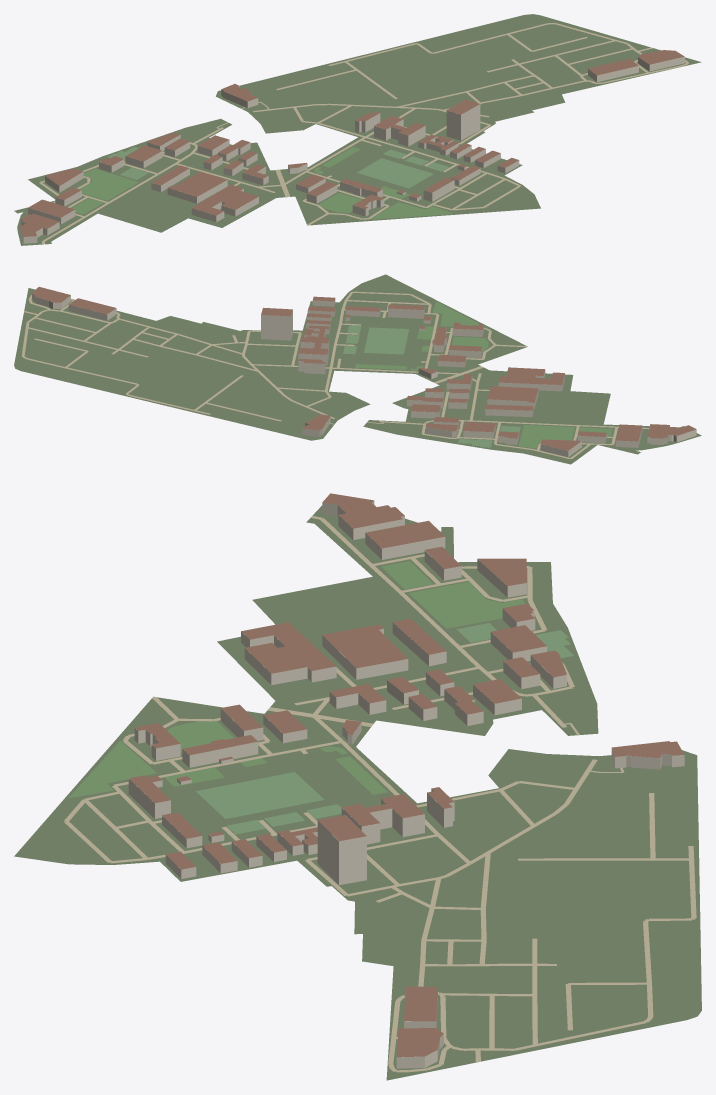
3 views of the same model, one above another, from view 1: azimuth 30°, elevation 25°; view 2: azimuth 150°, elevation 25°; view 3: azimuth 270°, elevation 25° (orthographic). The views are drawn at different scales.
Parts seen in each view (by area): view 1: campus-ground, environment (×3), buildings, roofs; view 2: campus-ground, environment (×3), roofs, buildings; view 3: campus-ground, environment (×3), roofs, buildings.
Boxes of the visible parts, x1,y1,x2,y2 form: campus-ground: (14,14,701,245); environment (×3): (39,23,688,244); buildings: (19,56,684,243); roofs: (19,50,684,236); campus-ground: (14,274,701,464); environment (×3): (21,291,649,459); roofs: (32,287,696,450); buildings: (32,293,696,457); campus-ground: (14,505,701,1080); environment (×3): (64,515,696,1072); roofs: (129,493,684,1057); buildings: (128,501,684,1068).
Size of the model in its own units: 1307 by 46.45 by 656.
